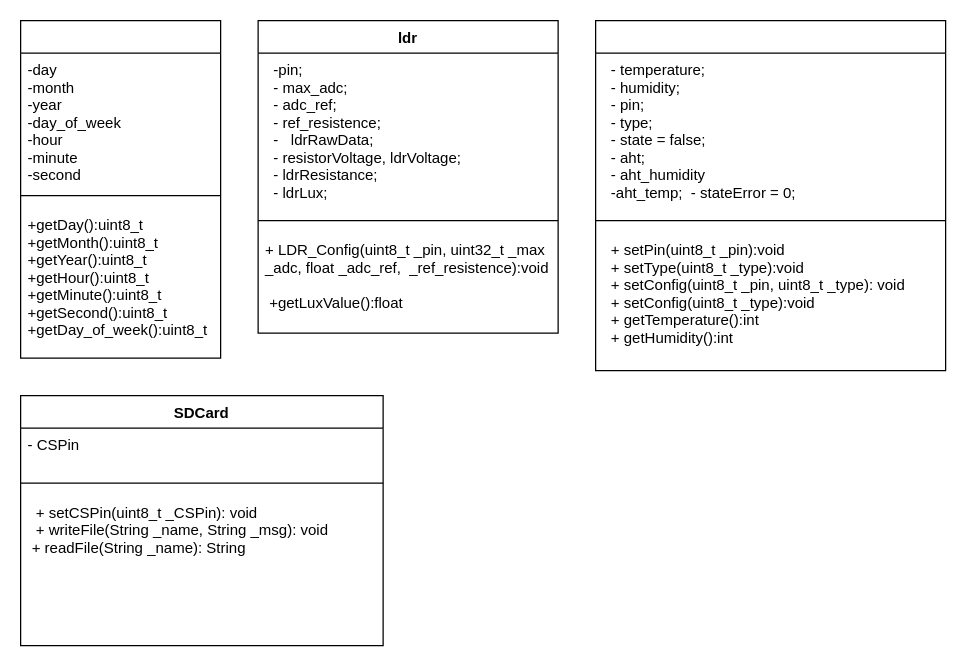
Image size: 966x666. Some labels were removed from this diagram. The shapes that lost their labels are listed below. From the top down, each one's box as (x1, y1, x2, y2) in pixels, then its label:
(19, 19, 221, 358): rtc
(594, 19, 946, 371): sensor
